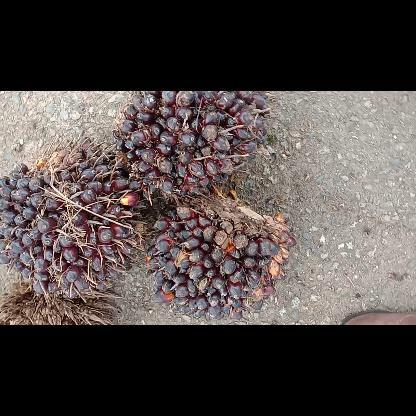TBS mentah: (0, 136, 144, 300), (151, 197, 295, 318), (112, 90, 268, 200)
